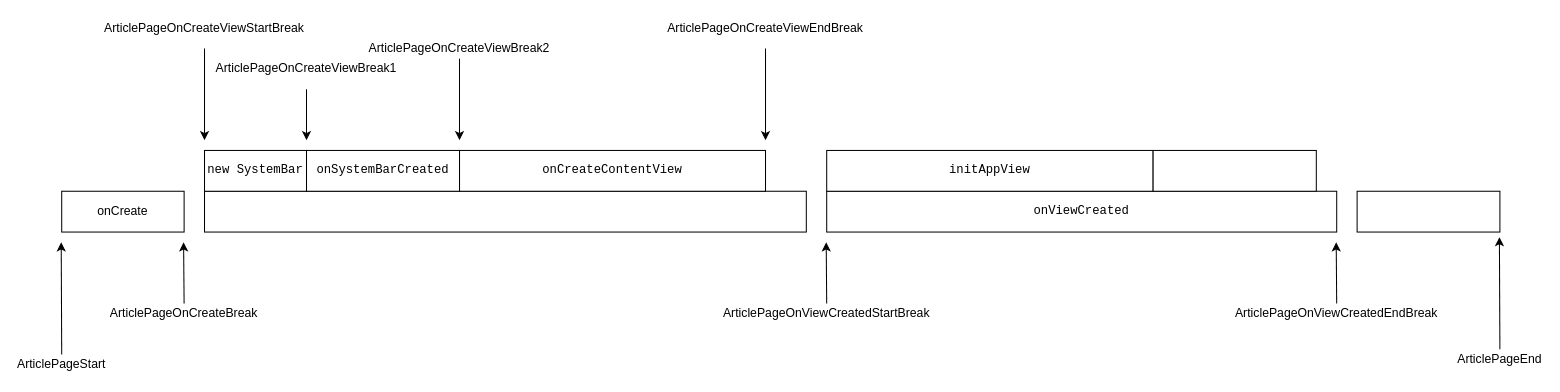
The diagram is 1560 pixels wide and 392 high, and some of its shapes have lost their labels. The centre of each missing label's shape, as x and y in pixels:
"onCreateView" belongs at pixel 504 211.
"requestProperArticle" belongs at pixel 1234 170.
"webPageReady" belongs at pixel 1428 211.
